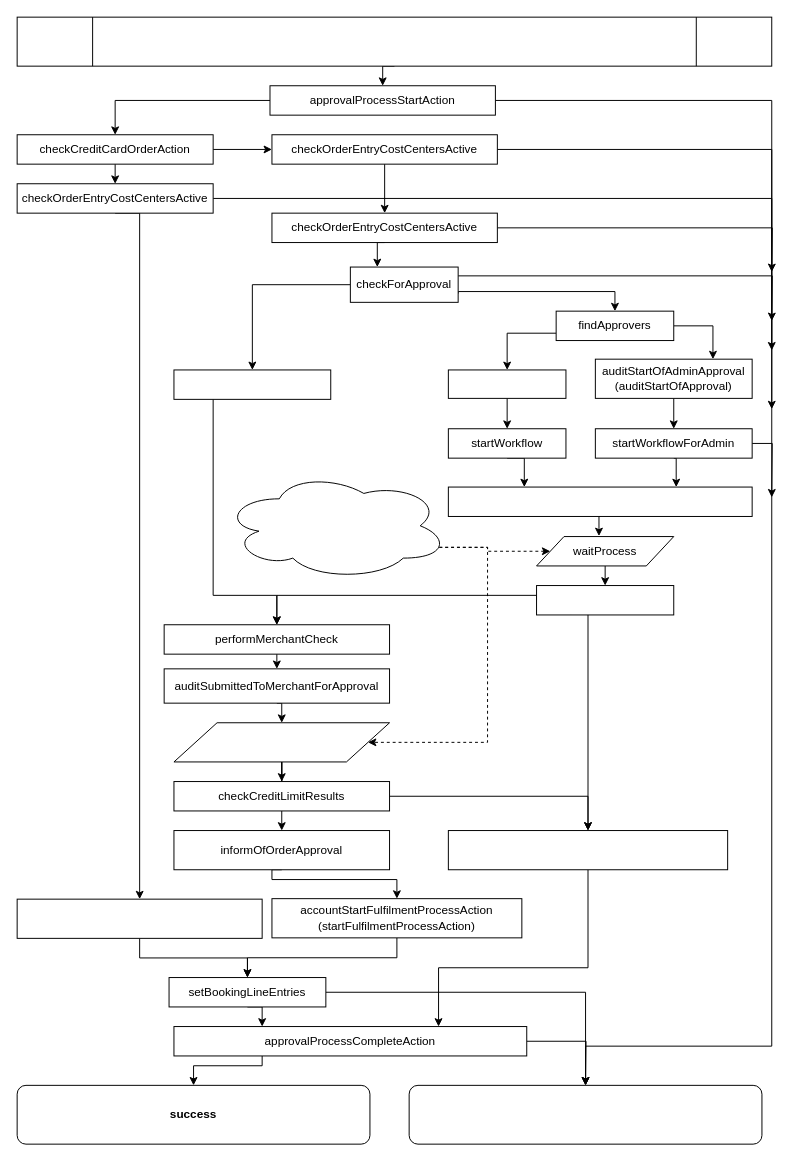
Image size: 798x1161. Some labels were removed from this diagram. Here are the shapes that lost their labels. From the top down, the centre of each, then its label:
point 394,41: Proces: b2bAccOrderApproval
point 252,384: auditAutoApproval
point 506,383: auditStartOfApproval
point 599,501: sendOrderPendingApprovalNotification
point 335,525: APPROVAL_WORKFLOW _COMPLETE_EVENT
point 605,600: checkWorkflowResults
point 281,742: waitforProcessCreditLimit
point 587,850: informOfOrderRejection ( sendOrderApprovalRejectionNotification)
point 139,918: creditCardStartFulfilmentProcessAction ( startFulfilmentProcessAction)
point 585,1114: error
